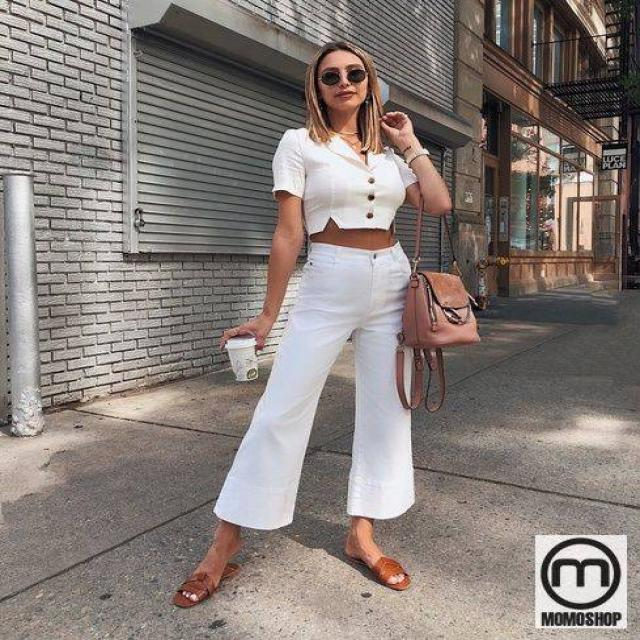clothes: (222, 124, 424, 528)
